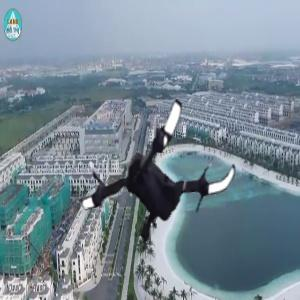drone: (64, 95, 240, 271)
